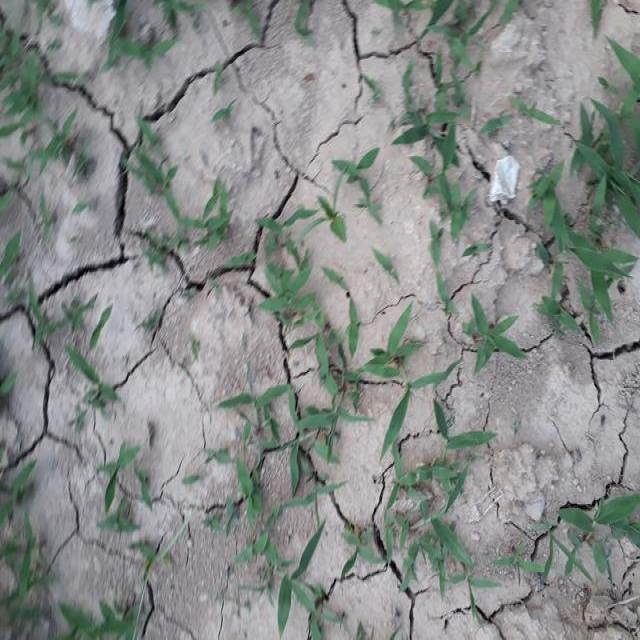weed: (398, 74, 502, 231), (564, 112, 640, 303), (356, 337, 443, 452), (398, 465, 478, 588), (236, 386, 350, 468), (280, 533, 340, 640), (262, 209, 311, 328), (62, 350, 122, 415), (562, 499, 640, 548), (466, 300, 520, 370), (90, 443, 134, 521), (338, 151, 382, 201)
